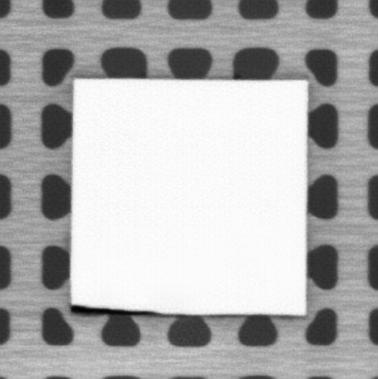DIE_BROKEN: (69, 303, 164, 317)
